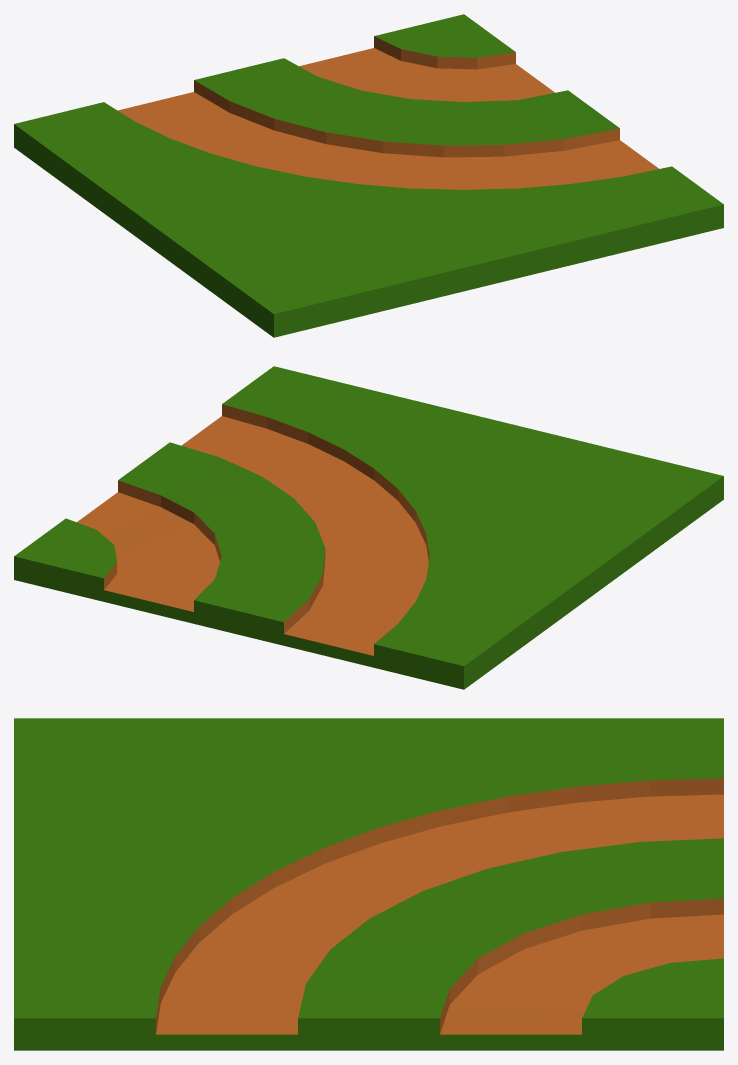
The model's file is Tile_Grass_Road_Corner.fbx.
The picture shows the model from 3 angles, top to bottom: view 1: azimuth 30°, elevation 25°; view 2: azimuth 150°, elevation 25°; view 3: azimuth 270°, elevation 25°; orthographic projection. The views are drawn at different scales.
Visible parts, largest first — view 1: Tile_Grass_Road_Corner; view 2: Tile_Grass_Road_Corner; view 3: Tile_Grass_Road_Corner.
Boxes of the visible parts, <box> form: Tile_Grass_Road_Corner: <box>14,14,723,337</box>; Tile_Grass_Road_Corner: <box>14,366,723,689</box>; Tile_Grass_Road_Corner: <box>14,718,723,1050</box>.
Bounding box in the file's own units: 100 × 5 × 100.
